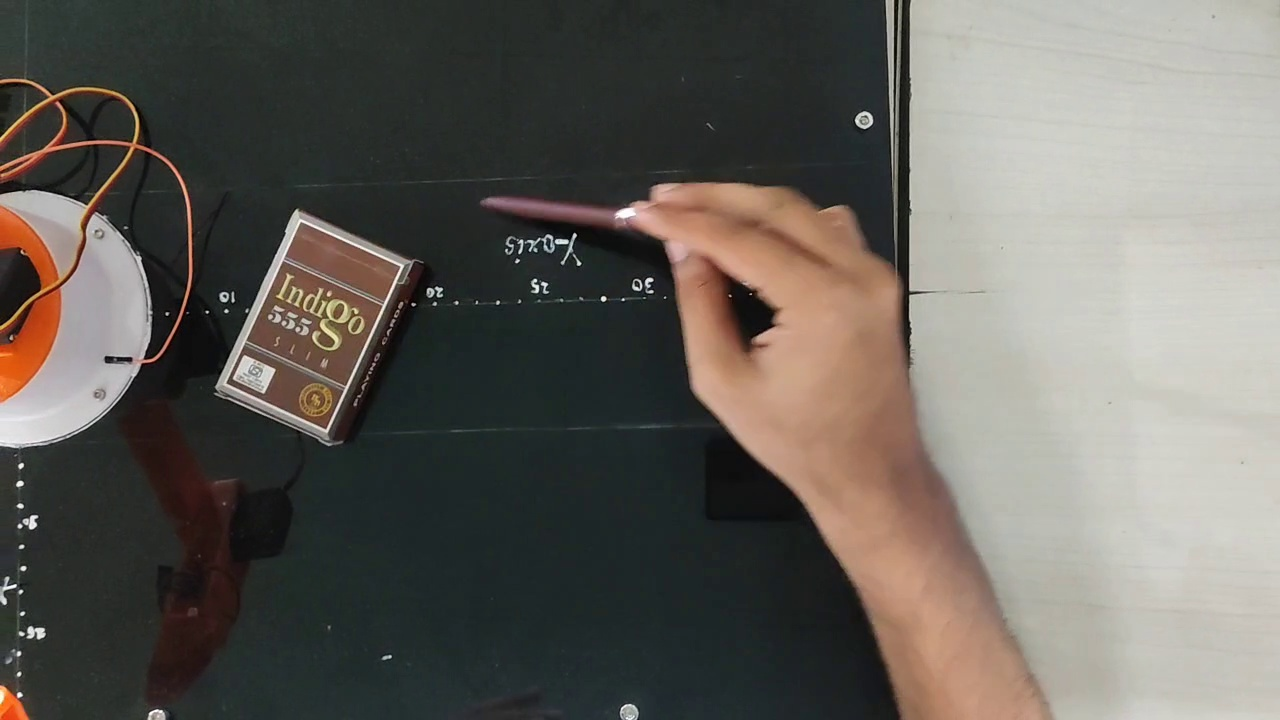BEX: (224, 221, 402, 430)
